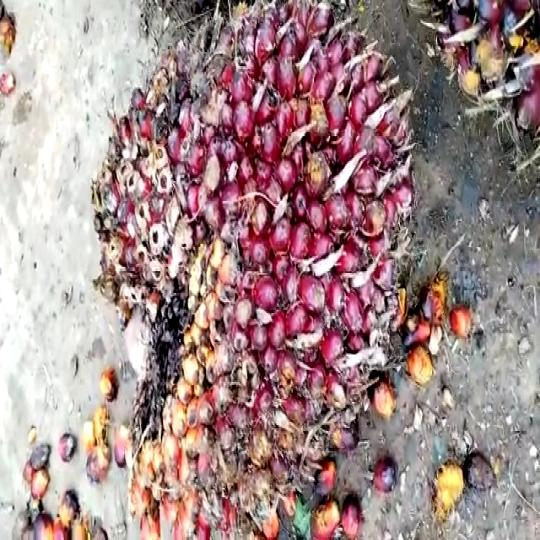kurang masak: (90, 0, 417, 540)
